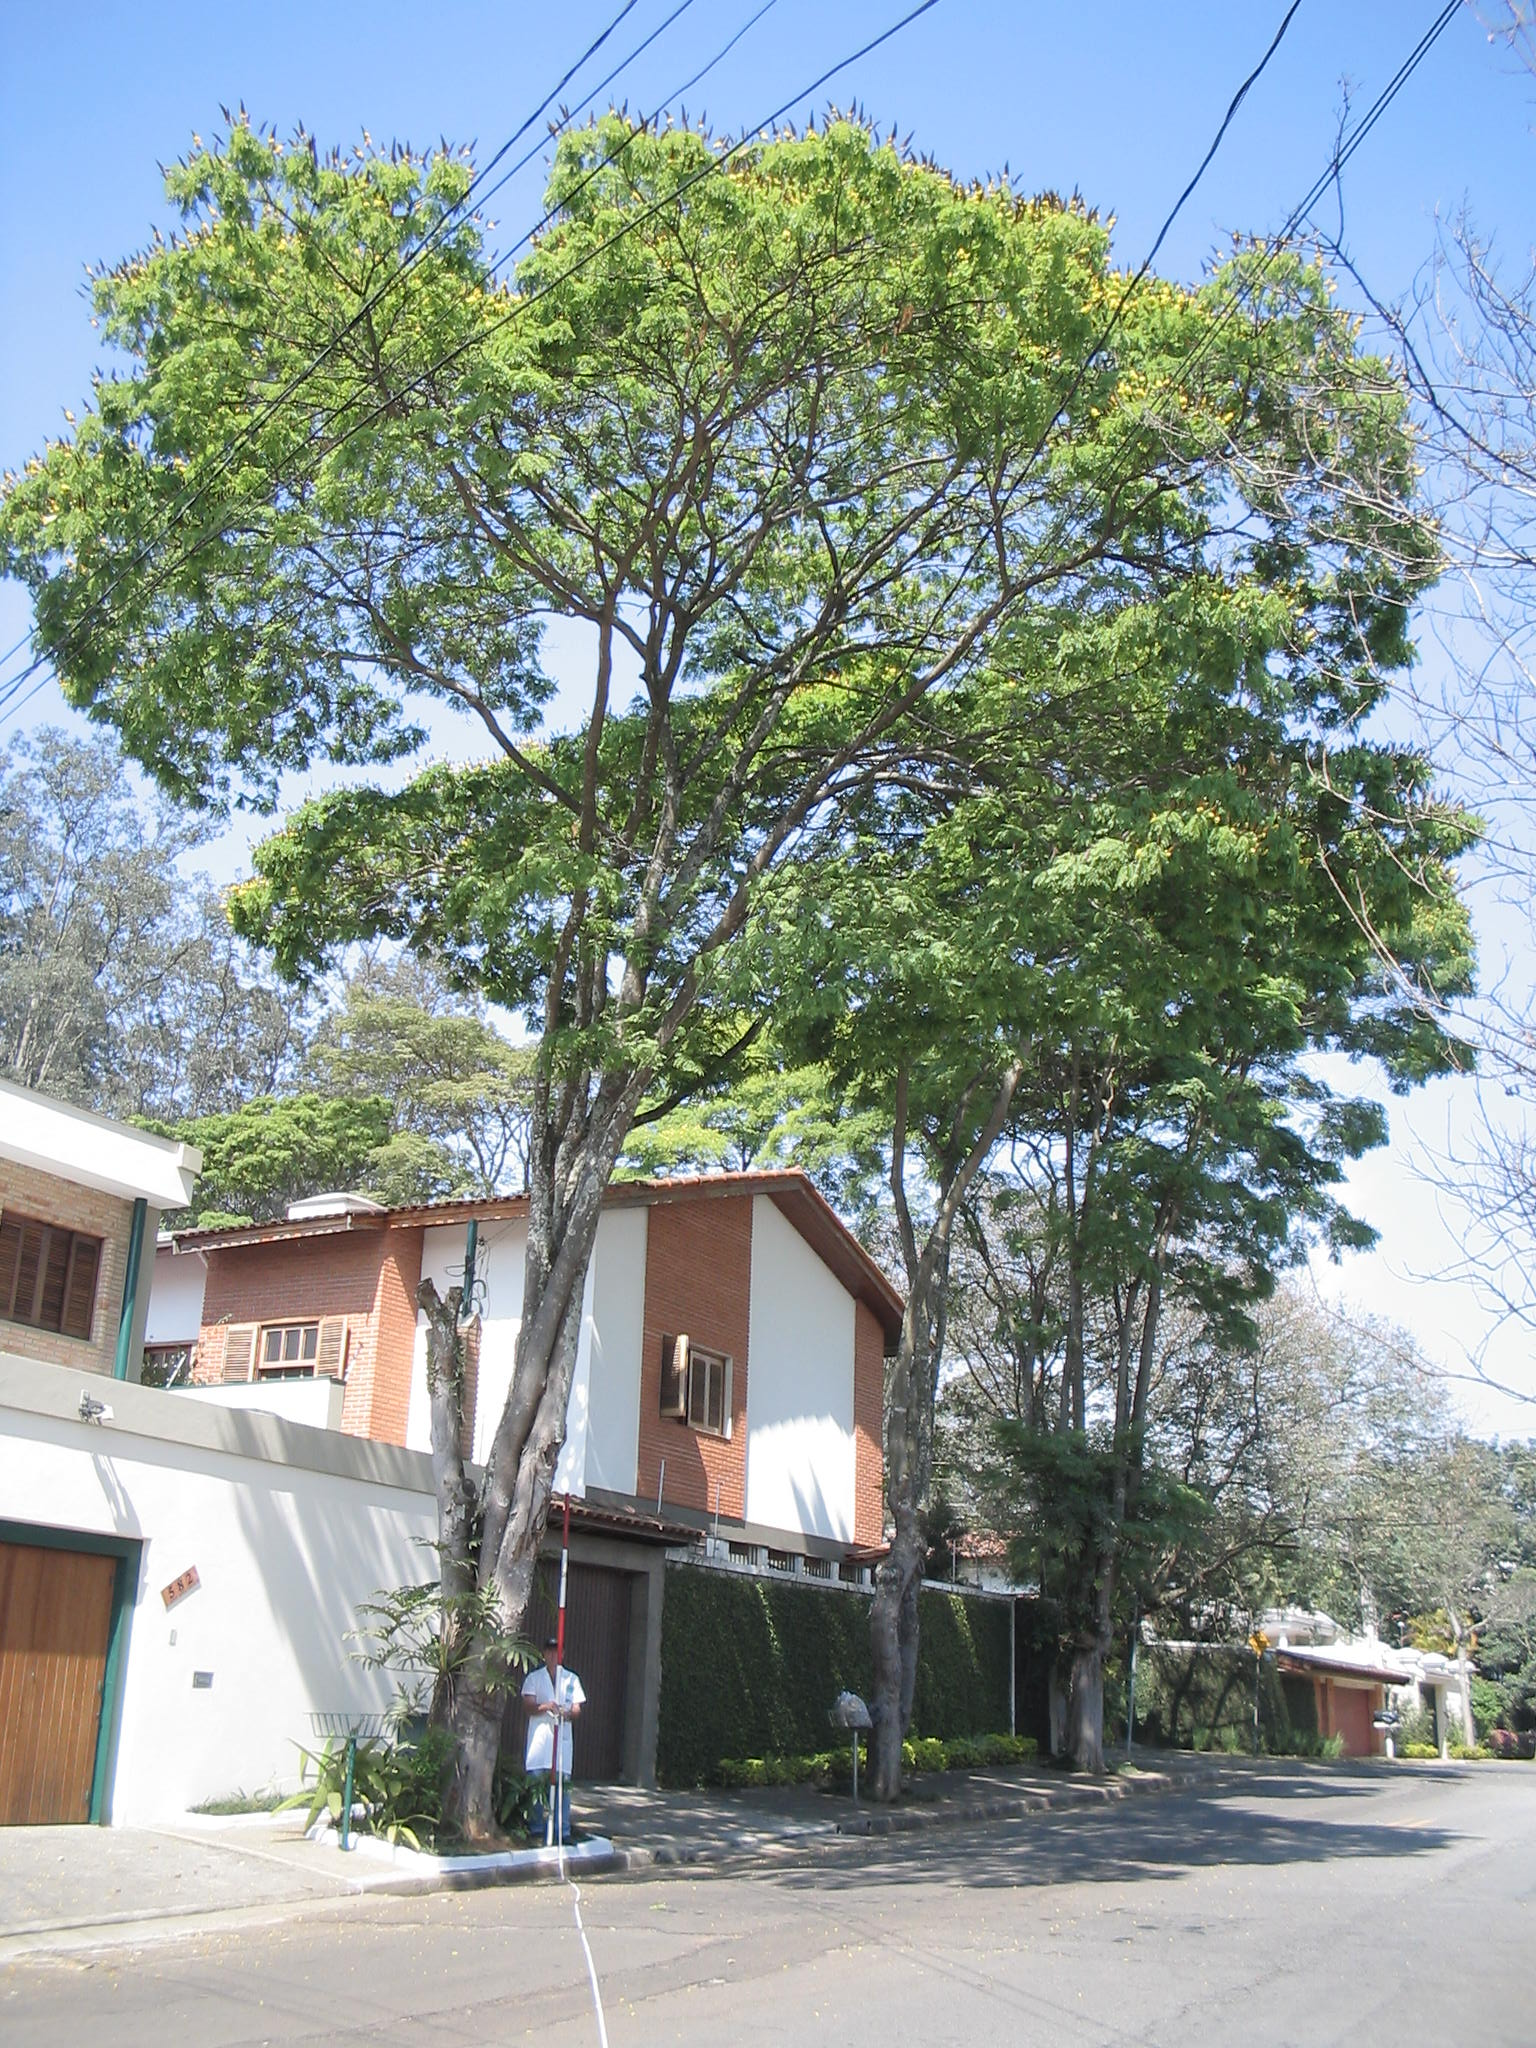crown: (19, 111, 1436, 1140)
stem: (828, 1284, 978, 1792), (387, 1508, 549, 1853)
stick: (524, 1490, 592, 1843)
tree: (11, 103, 1442, 1861)
